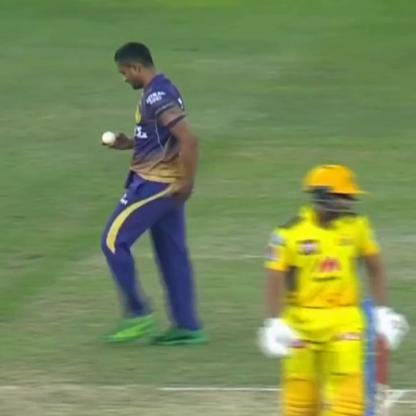ball: (98, 124, 121, 145)
